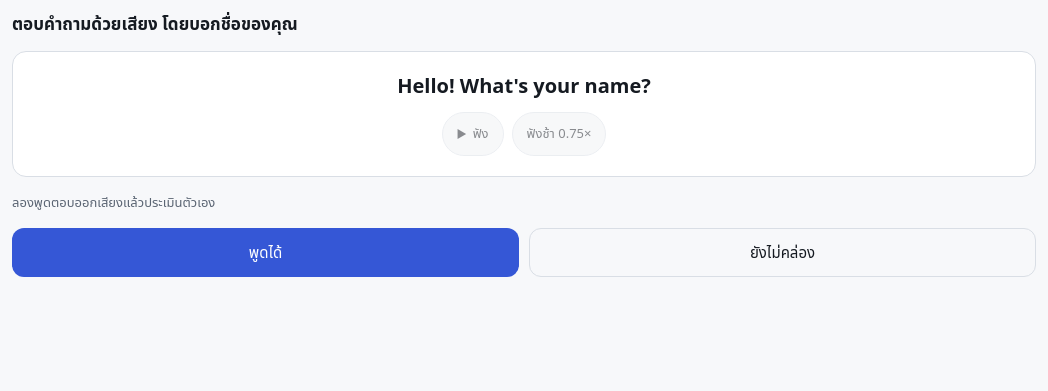
it: SpeakAnswer › rating พูดได้ answers once with ok and reveals the sample answer
Later steps or results of the test are not shown.
What coordinates should you click on to do the following:
click the button "พูดได้"
I would click on:
 (266, 253)
Its box is [12, 228, 519, 277].
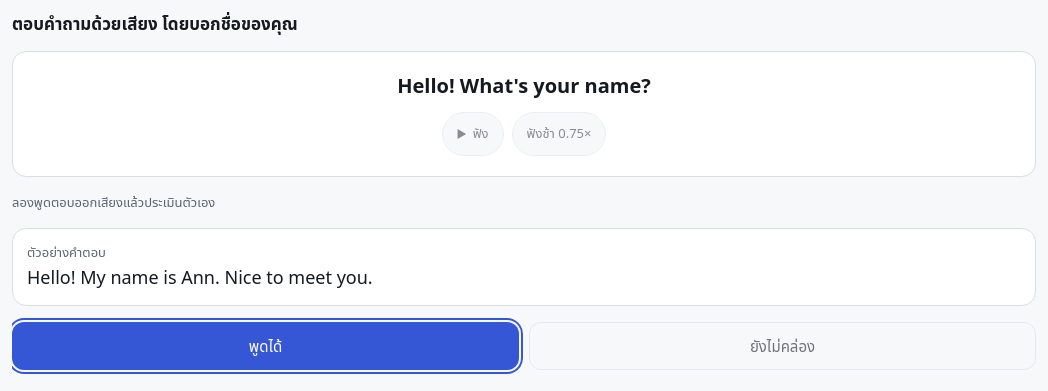
Expected: the text "Hello! My name is Ann. Nice to meet you." is shown, [27, 265, 373, 289]
Expected: the button "พูดได้" is disabled, [12, 322, 519, 370]
Expected: the button "ยังไม่คล่อง" is disabled, [529, 322, 1036, 370]
